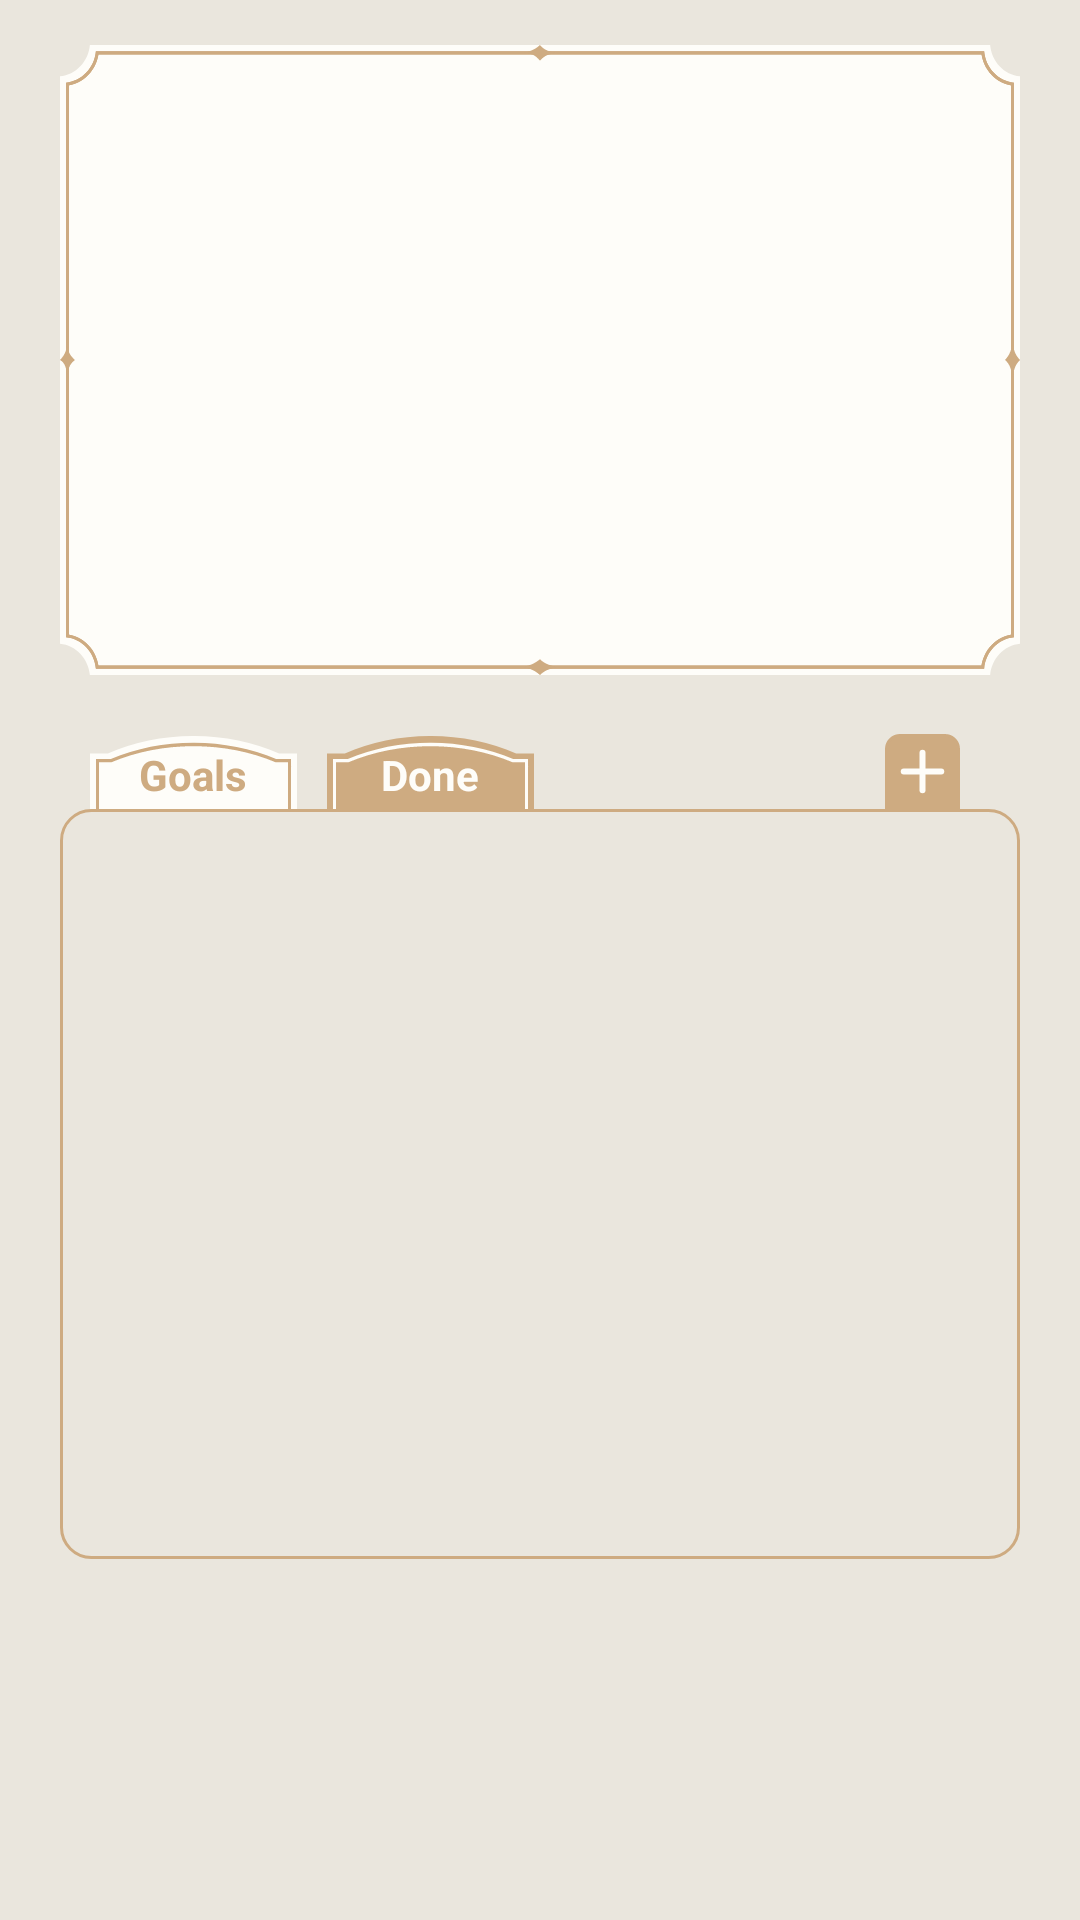

Icon bounding boxes for this 1080px x 1920px phone screenshot, format BBox(x1, y1, x2, y2):
goal add: BBox(885, 734, 960, 809)
